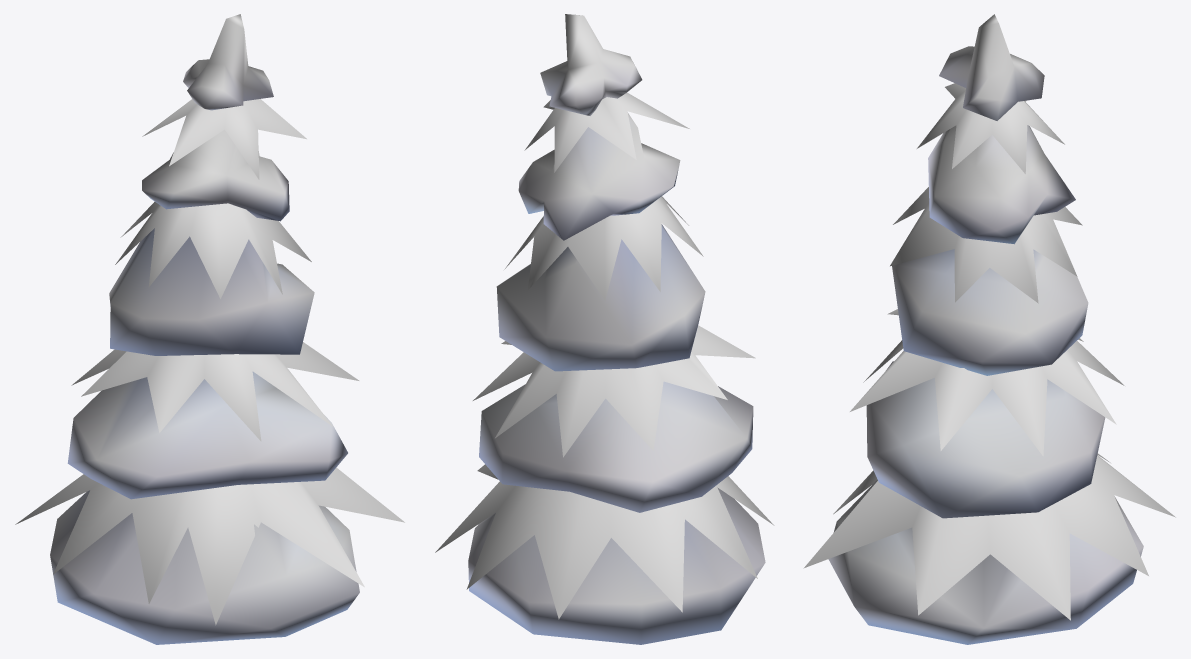
File: SnowyPineTreeStraightLOD.glb
The picture shows the model from 3 angles, left to right: view 1: azimuth 30°, elevation 25°; view 2: azimuth 150°, elevation 25°; view 3: azimuth 270°, elevation 25°; orthographic projection. The views are drawn at different scales.
Parts seen in each view (by area): view 1: SnowyPineTreeStraightLOD; view 2: SnowyPineTreeStraightLOD; view 3: SnowyPineTreeStraightLOD.
Part boxes in pixels (bbox=[...]): SnowyPineTreeStraightLOD: bbox=[15, 14, 404, 644]; SnowyPineTreeStraightLOD: bbox=[435, 14, 774, 644]; SnowyPineTreeStraightLOD: bbox=[803, 14, 1175, 644].
Bounding box in the file's own units: 5.31 × 9.05 × 5.26.
